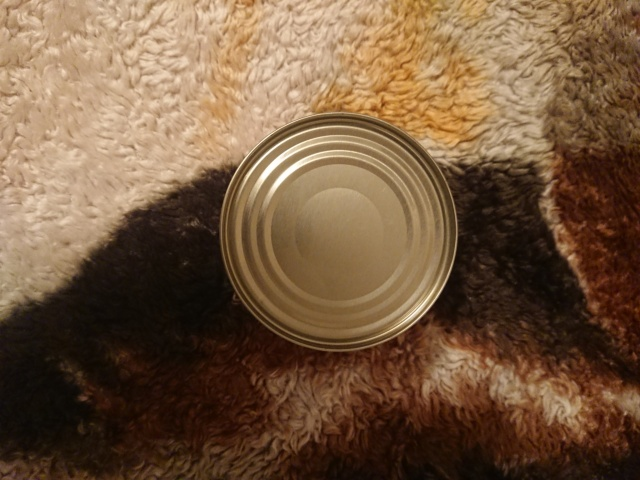Podravka Luncheon Meat 150g: (214, 107, 462, 356)
